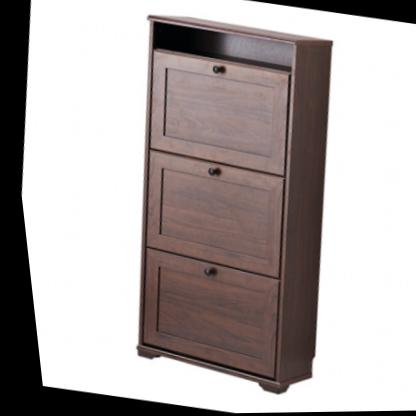Cabinet: (83, 1, 370, 407)
